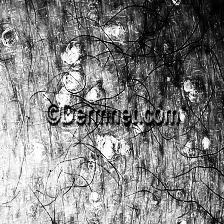Benign Marking or Mole: (57, 41, 81, 107), (95, 132, 120, 162), (184, 80, 196, 102), (86, 88, 98, 102), (173, 0, 181, 8)
